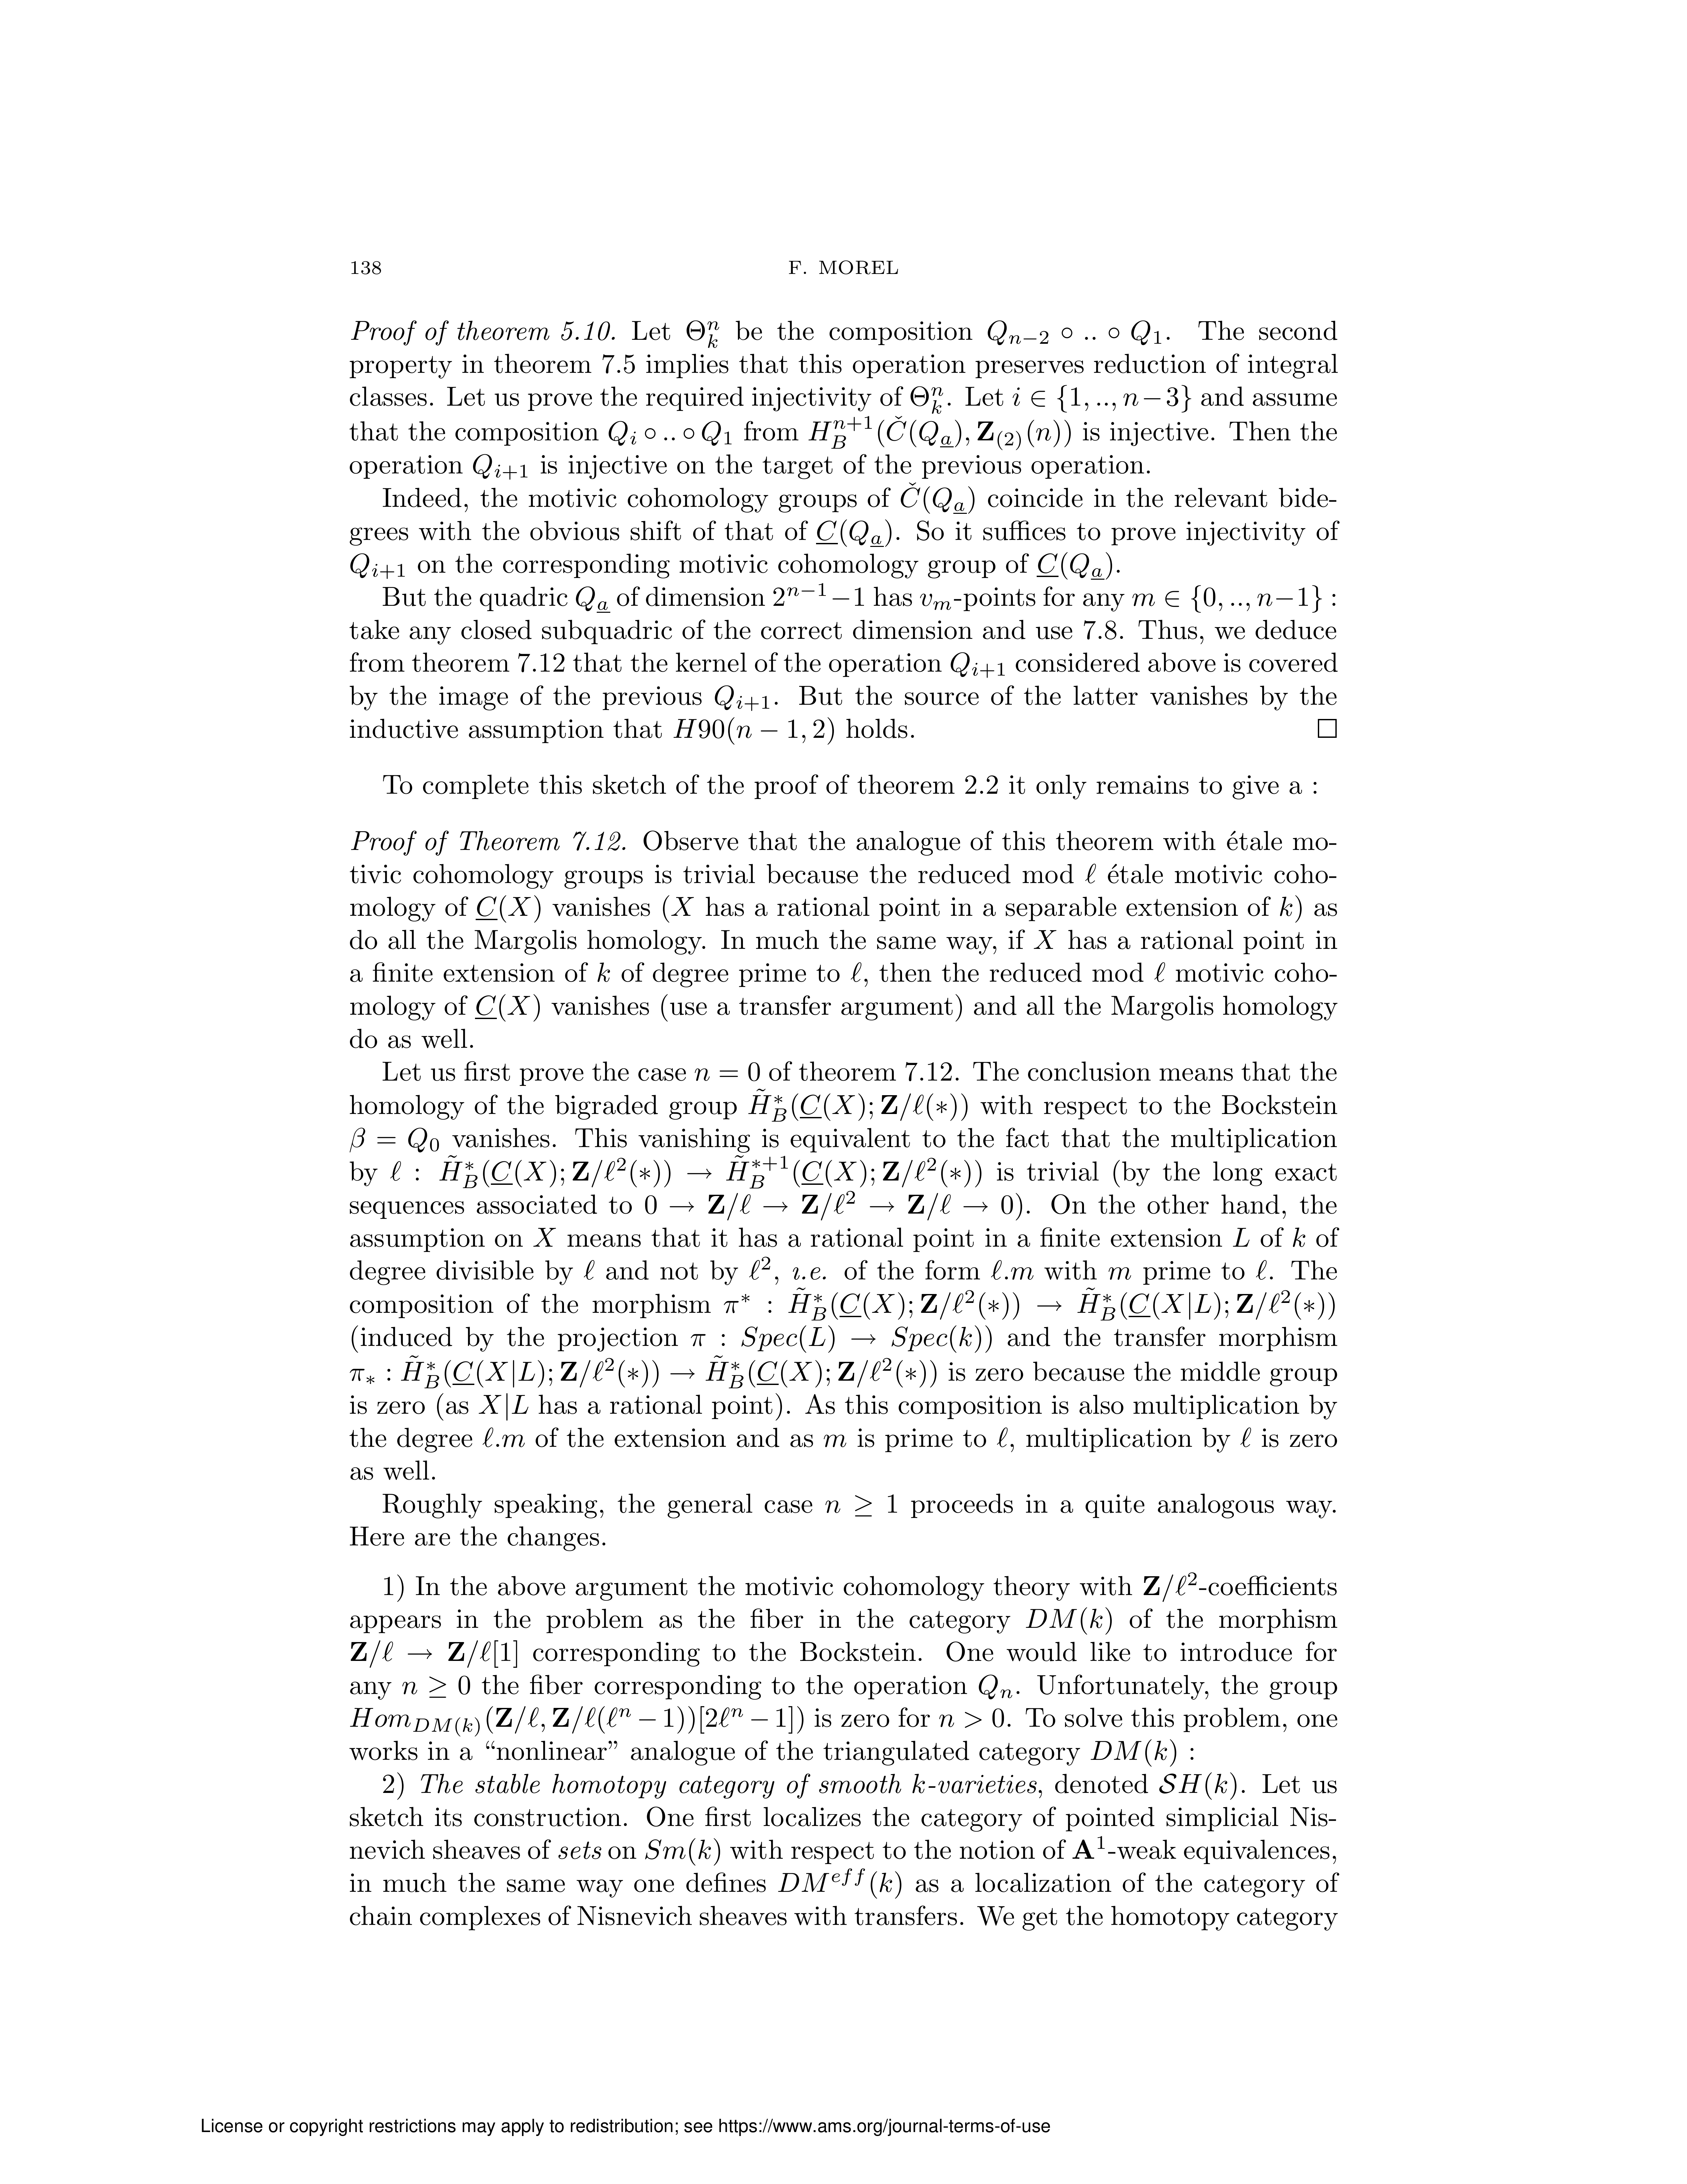expr: (216, 271, 1106, 363), (314, 964, 1049, 1053), (496, 587, 1058, 688), (496, 698, 978, 799), (273, 1209, 794, 1292), (299, 473, 659, 580), (271, 1588, 1076, 1622), (473, 1636, 831, 1707), (149, 1500, 436, 1528), (861, 1468, 1131, 1496), (151, 420, 385, 450), (470, 1725, 693, 1753), (338, 1326, 572, 1353), (268, 1466, 486, 1493), (496, 823, 576, 890), (156, 1360, 344, 1388), (264, 1083, 424, 1112), (459, 1503, 620, 1530), (608, 1087, 766, 1113), (719, 1397, 861, 1423), (595, 1468, 721, 1494), (812, 1234, 936, 1260), (962, 1234, 1065, 1259), (930, 1399, 1022, 1423), (748, 1326, 829, 1347), (601, 1361, 647, 1390), (276, 1537, 323, 1564), (879, 1360, 916, 1390), (1015, 1122, 1056, 1149), (539, 1397, 564, 1423), (950, 1328, 976, 1347), (693, 433, 709, 452), (578, 924, 594, 943), (234, 1127, 245, 1147), (206, 920, 216, 934), (1042, 1404, 1053, 1418)
